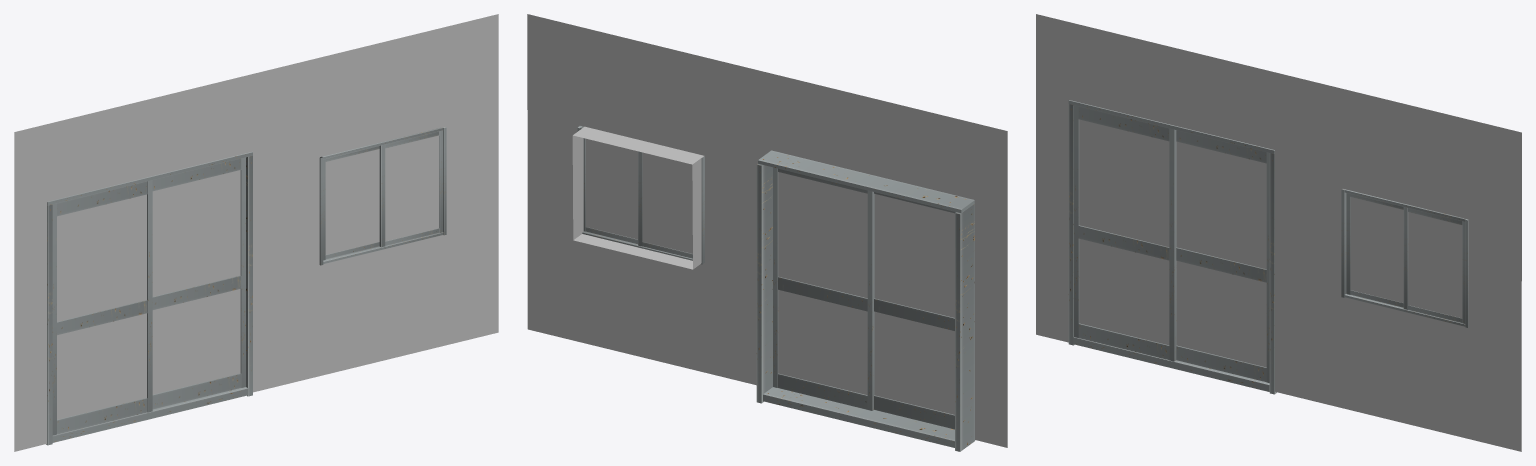
File: shop_f_null10a.fbx
The picture shows the model from 3 angles, left to right: view 1: azimuth 30°, elevation 25°; view 2: azimuth 150°, elevation 25°; view 3: azimuth 330°, elevation 25°; orthographic projection.
Parts seen in each view (by area): view 1: shop_f_null10a; view 2: shop_f_null10a; view 3: shop_f_null10a.
Part boxes in pixels (bbox=[...]): shop_f_null10a: bbox=[14, 14, 498, 451]; shop_f_null10a: bbox=[527, 14, 1007, 451]; shop_f_null10a: bbox=[1036, 14, 1521, 451].
Bounding box in the file's own units: 540 × 342 × 30.38.
